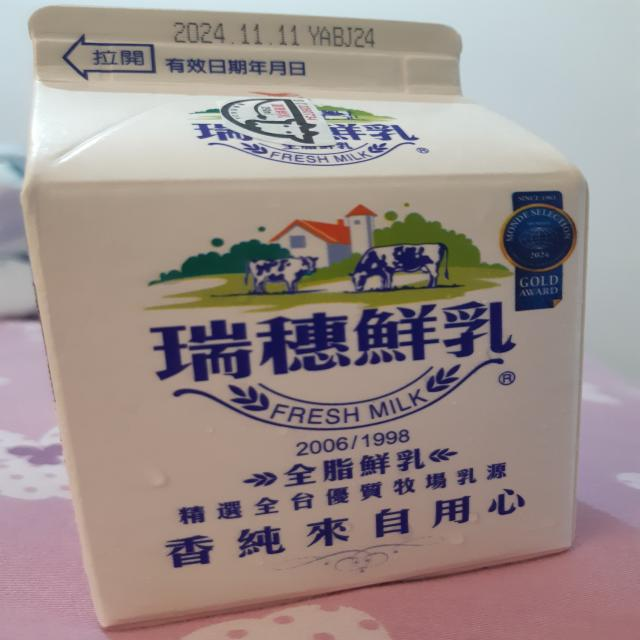RuiSui_Milk: (19, 6, 592, 614)
